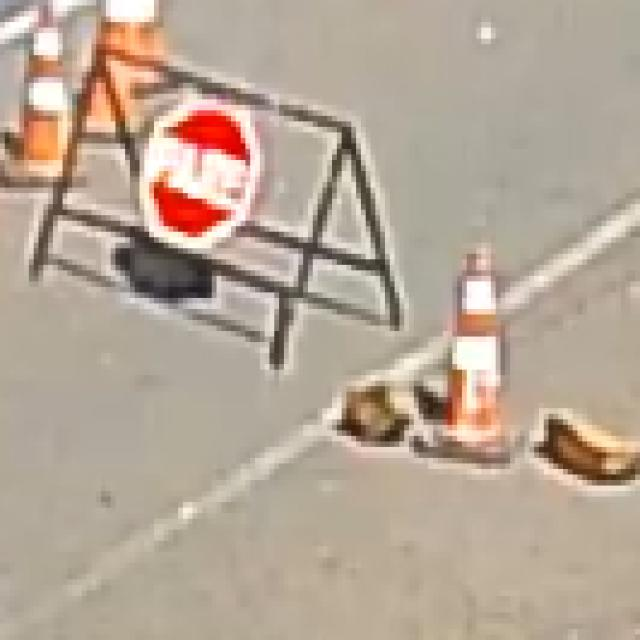small_cone: (432, 225, 544, 483), (3, 0, 96, 191)
stop_sign: (39, 39, 405, 370)
